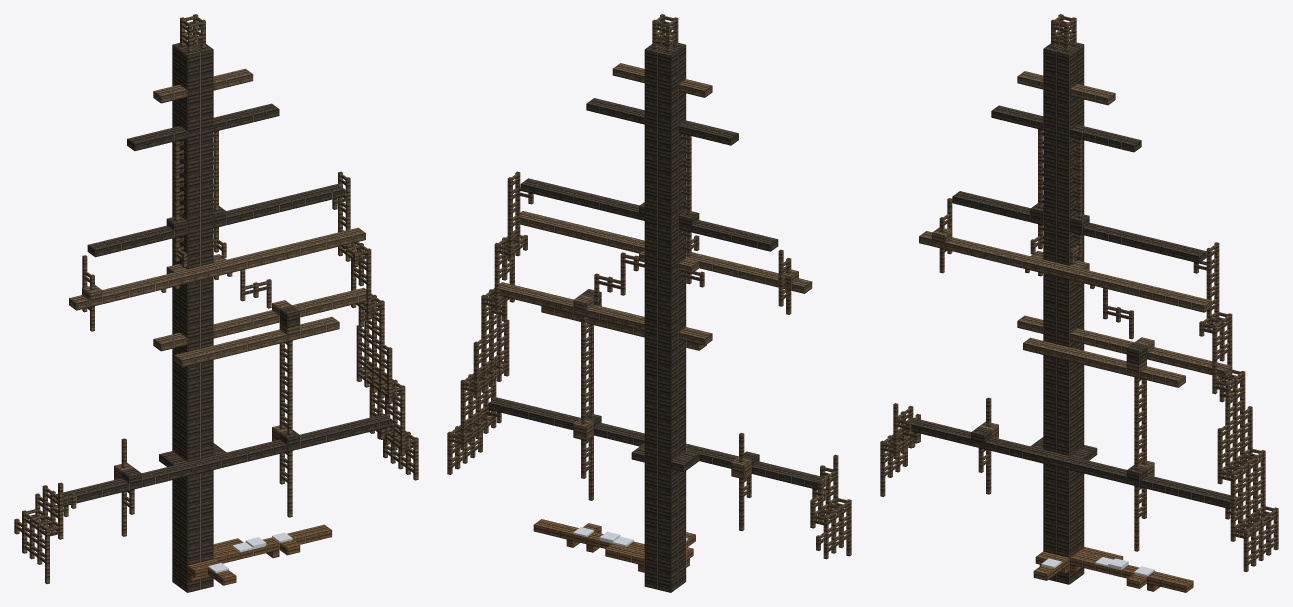
Rendered from Frozen_Ship_Mast_01.fbx.
The picture shows the model from 3 angles, left to right: view 1: azimuth 30°, elevation 25°; view 2: azimuth 150°, elevation 25°; view 3: azimuth 330°, elevation 25°; orthographic projection.
Parts seen in each view (by area): view 1: Frozen_Ship_Mast_01.mo; view 2: Frozen_Ship_Mast_01.mo; view 3: Frozen_Ship_Mast_01.mo.
Part boxes in pixels (<box>): Frozen_Ship_Mast_01.mo: <box>14,14,418,592</box>; Frozen_Ship_Mast_01.mo: <box>447,14,851,592</box>; Frozen_Ship_Mast_01.mo: <box>880,14,1278,592</box>.
Bounding box in the file's own units: 2825 × 4100 × 563.
